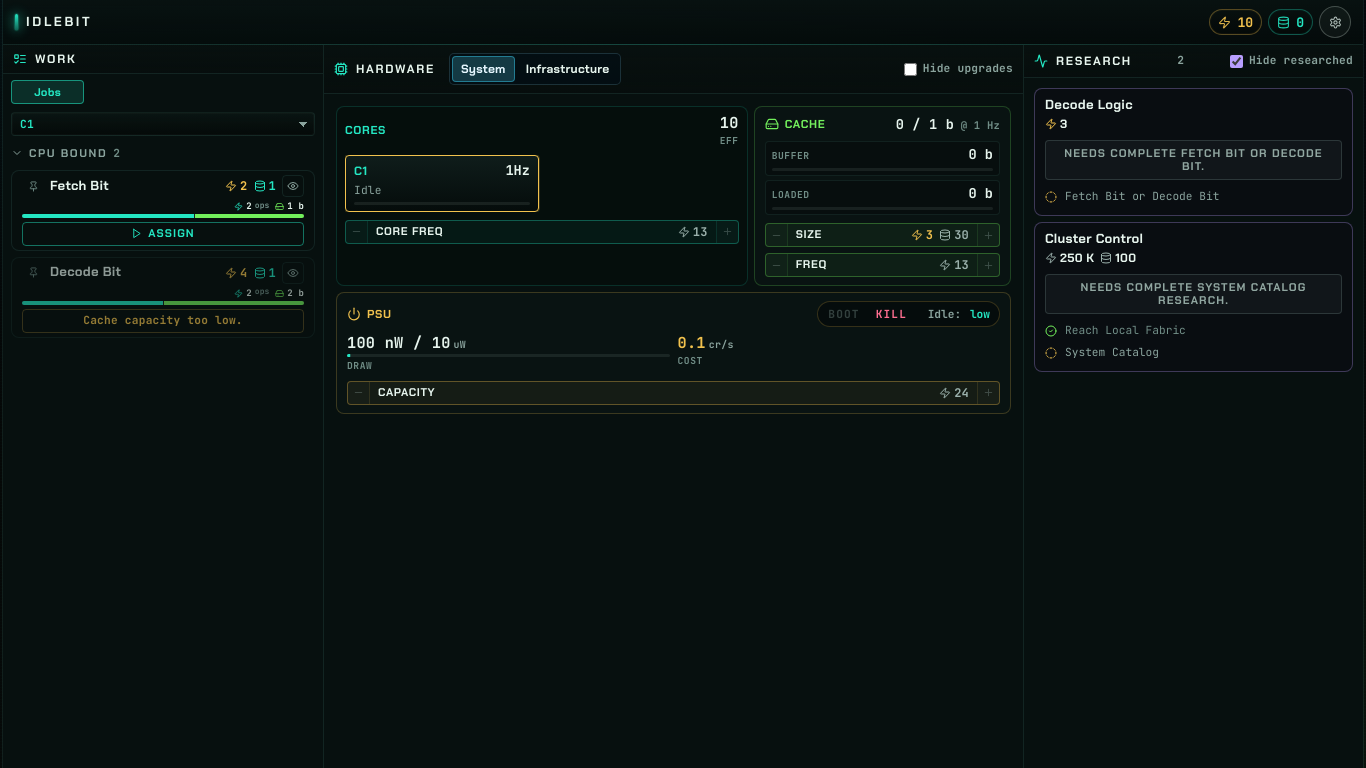
Test case: SystemWorkbench infrastructure view › lazy-loads Local Fabric at chapter four and withholds facilities until chapter five
Click the button "Infrastructure" at (568,69), box [517, 56, 618, 82]
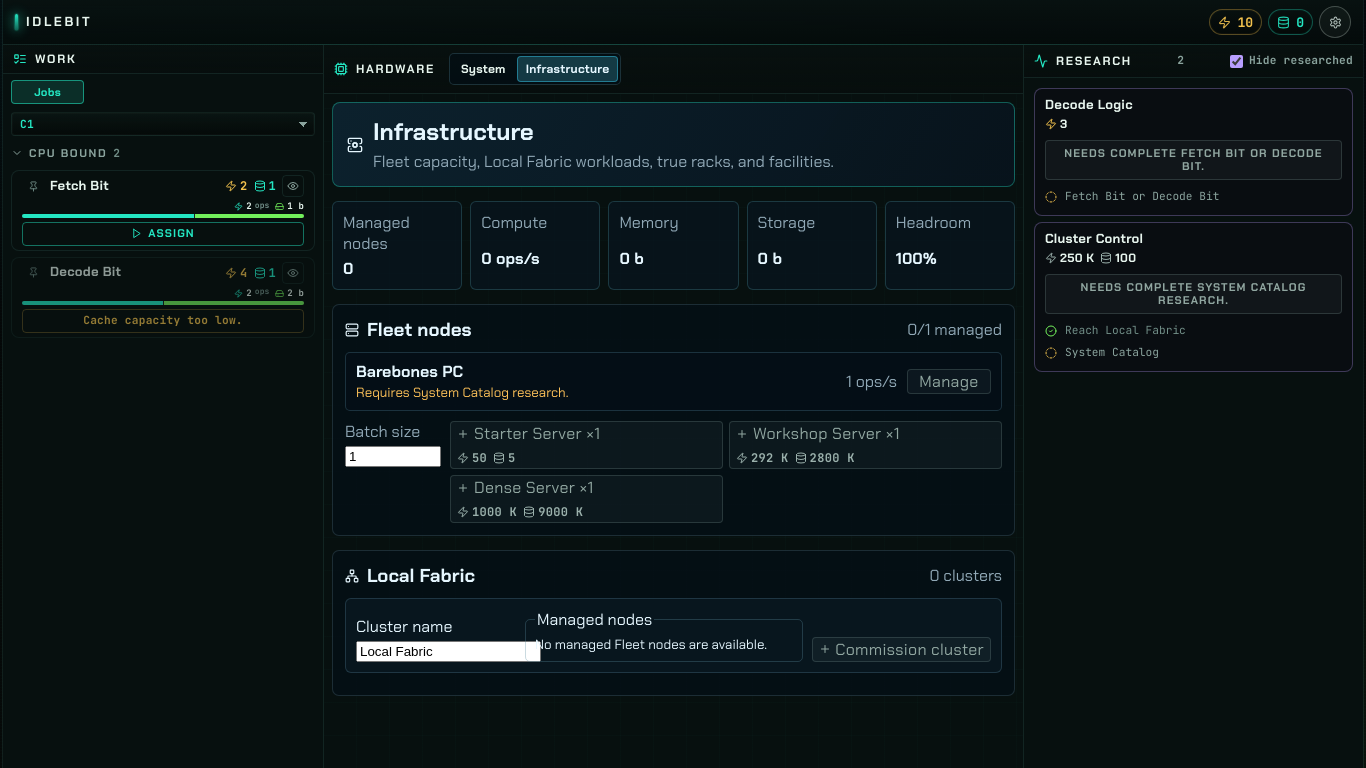
Check: the text "Local Fabric" is shown, box [373, 151, 834, 172]
Check: the element named "Infrastructure" is shown, box [332, 102, 1015, 696]
